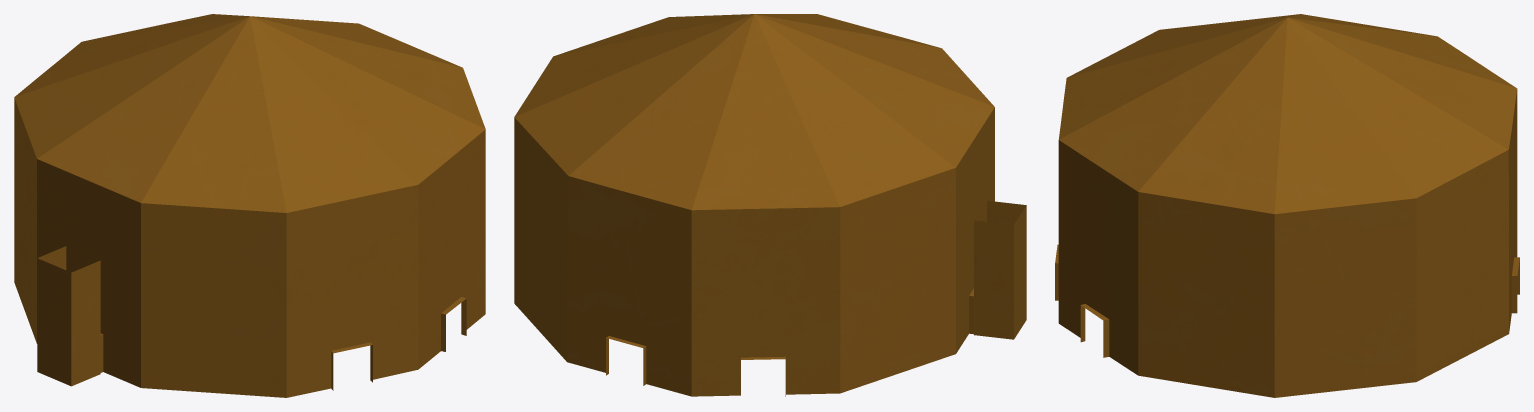
File: HubWalls.fbx
3 renders of one model, left to right at view 1: azimuth 30°, elevation 25°; view 2: azimuth 150°, elevation 25°; view 3: azimuth 270°, elevation 25°, orthographic.
Parts seen in each view (by area): view 1: HubWalls; view 2: HubWalls; view 3: HubWalls.
Boxes of the visible parts, bbox=[...] form: HubWalls: bbox=[14, 14, 485, 397]; HubWalls: bbox=[514, 14, 1026, 396]; HubWalls: bbox=[1055, 14, 1519, 397].
Size of the model in its own units: 5024 by 3069 by 4611.
1 material, 1 textured.
